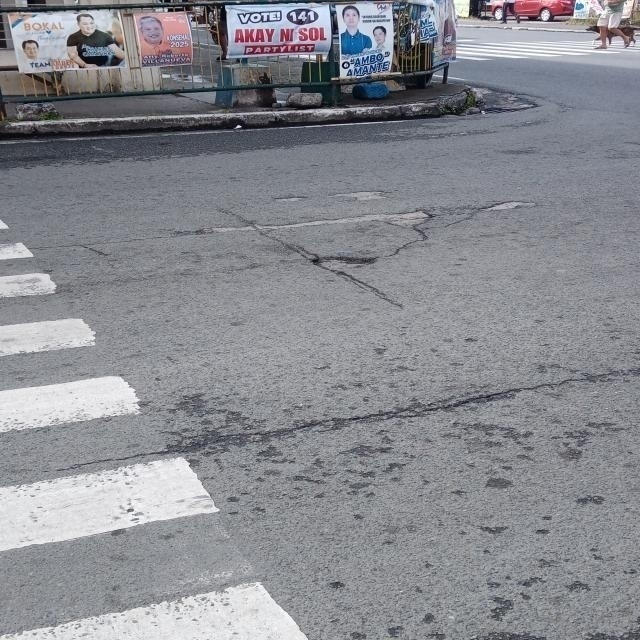pothole: (136, 212, 486, 266), (254, 177, 331, 207), (342, 176, 412, 207)
